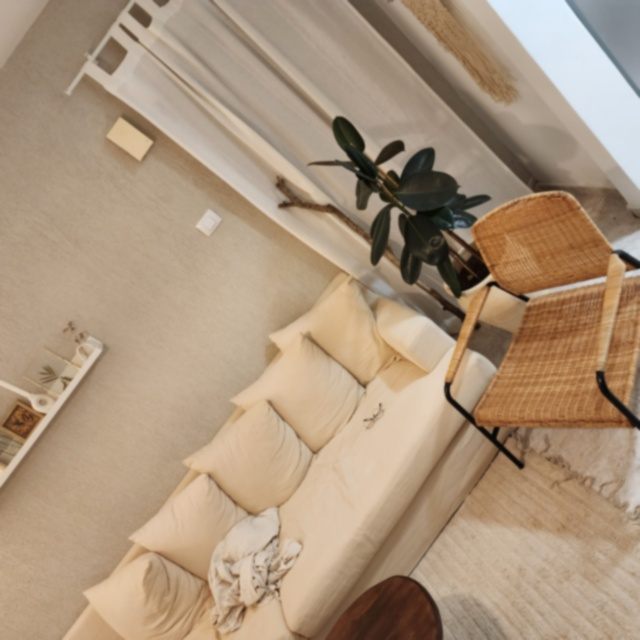glasses: (361, 402, 387, 428)
